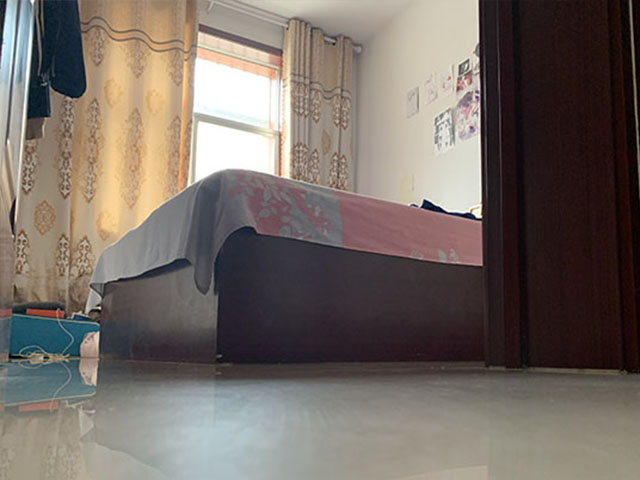bed: (83, 167, 487, 367)
curtain: (11, 3, 194, 293), (278, 13, 358, 194)
wire: (17, 307, 75, 362)
